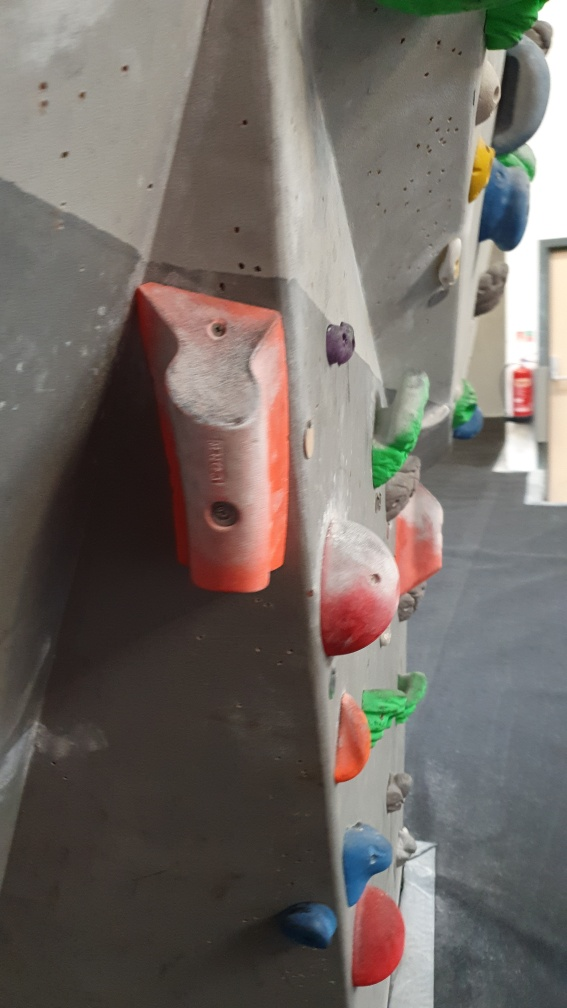Pinch: (131, 279, 294, 601)
Sloper: (314, 513, 403, 666), (345, 885, 410, 997)
